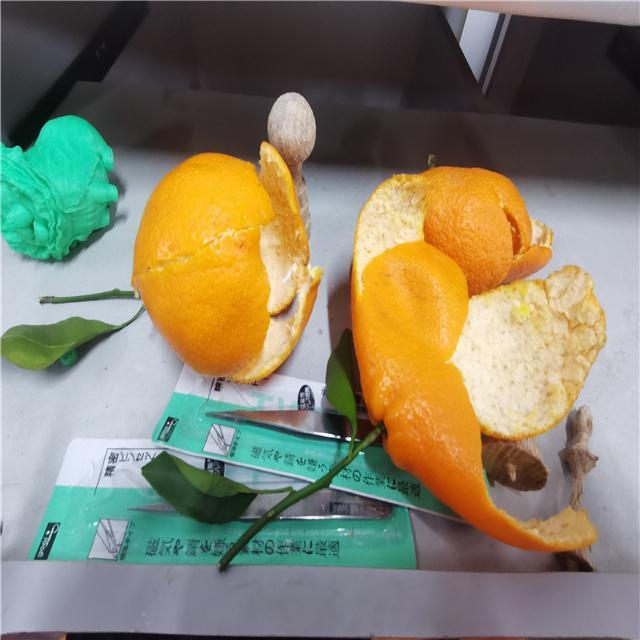orange-peel: (349, 163, 602, 553), (130, 142, 319, 383)
